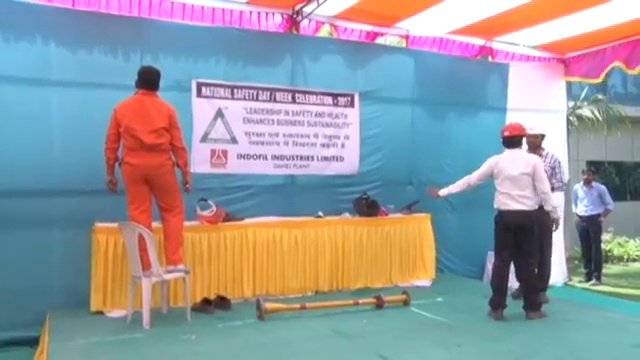helmet: (499, 119, 527, 137), (526, 121, 548, 138)
helmet_off: (133, 64, 162, 93), (578, 164, 598, 188)
helmet_on: (499, 120, 526, 152), (526, 121, 549, 158)
person: (432, 118, 561, 323), (104, 64, 193, 272), (526, 119, 565, 302), (571, 163, 616, 287)
